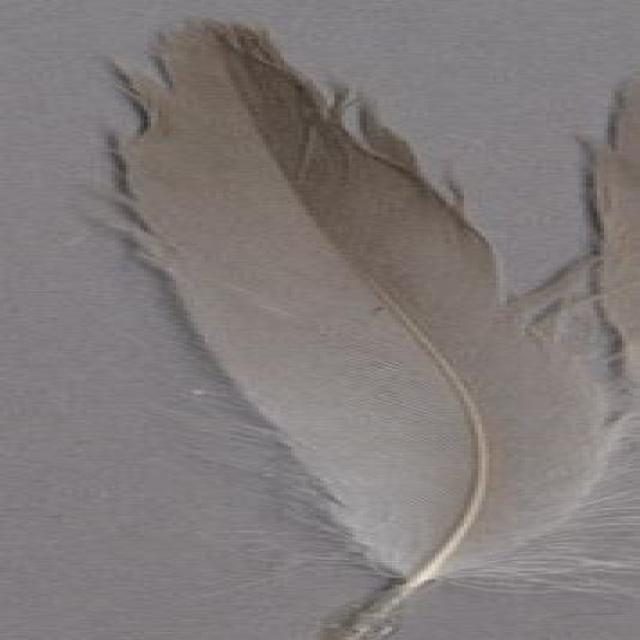feather: (87, 16, 640, 640)
